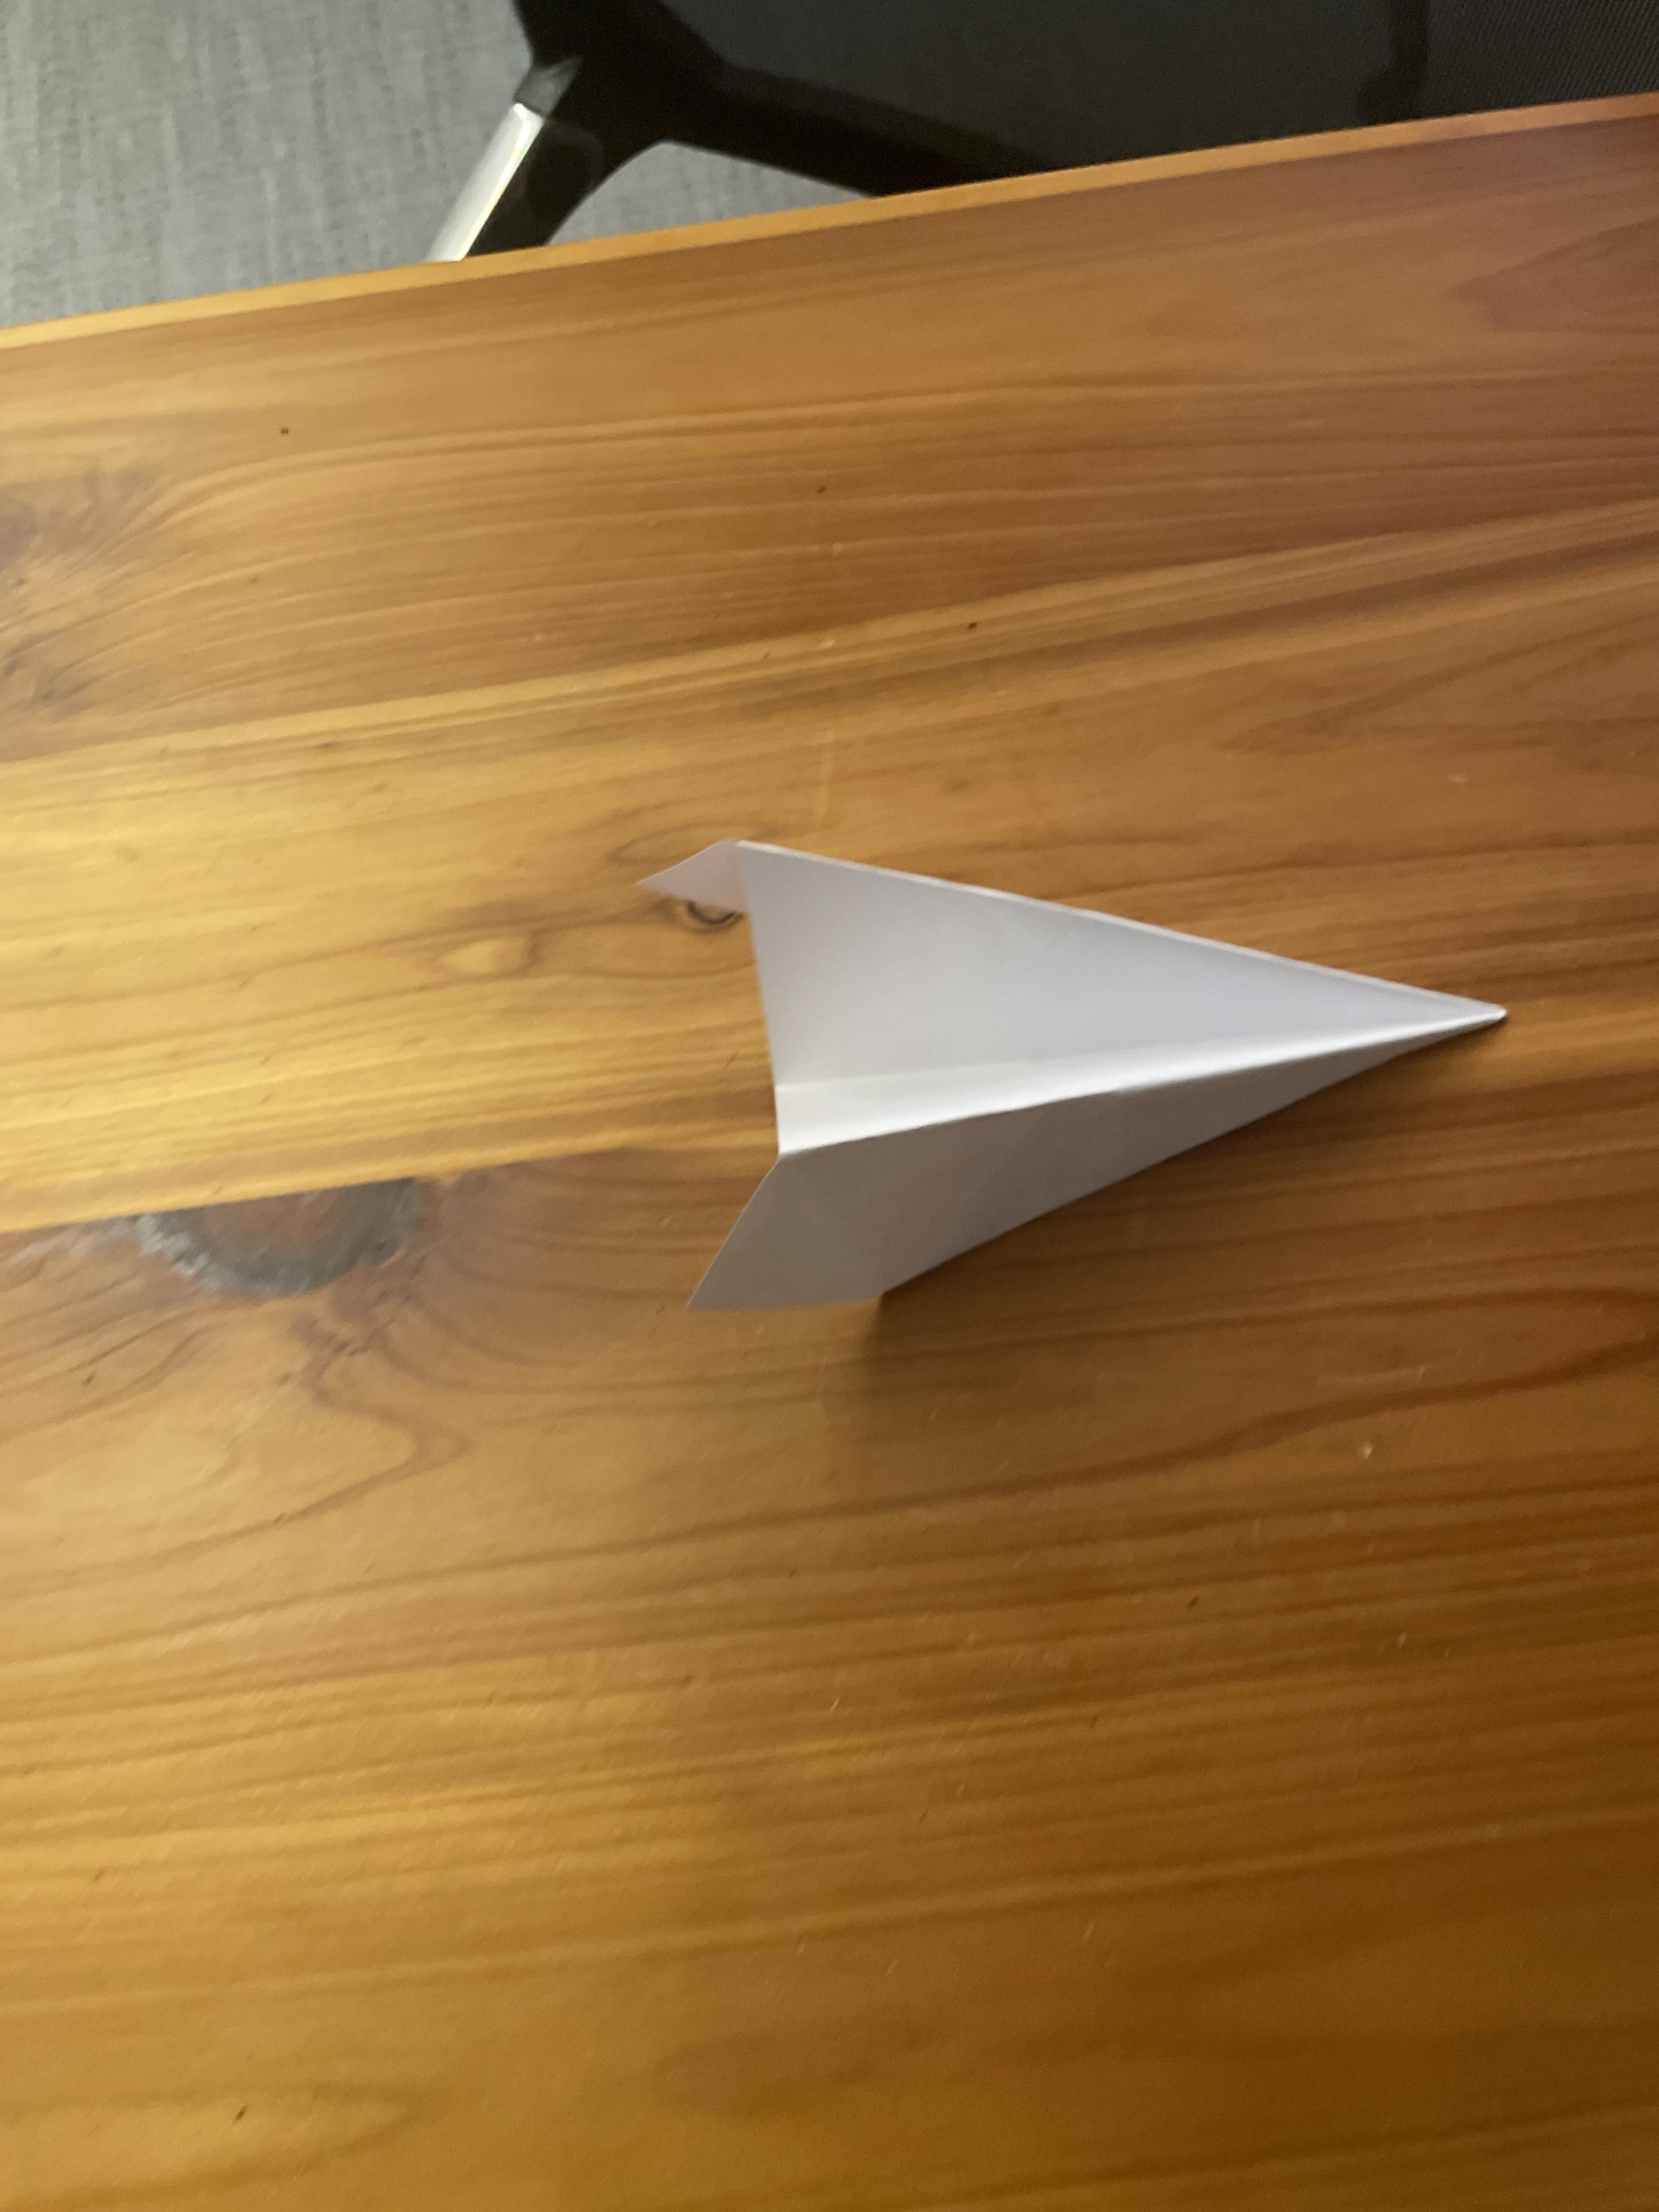shape_3: (538, 719, 1596, 1428)
